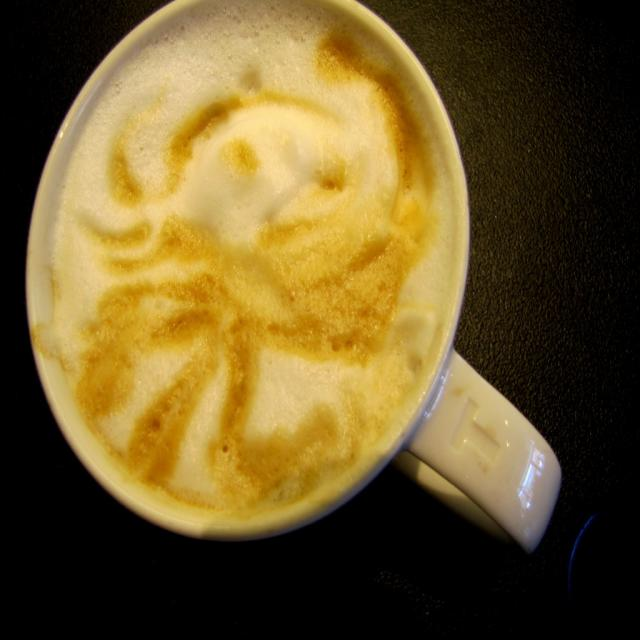Coffee: (49, 0, 454, 525)
